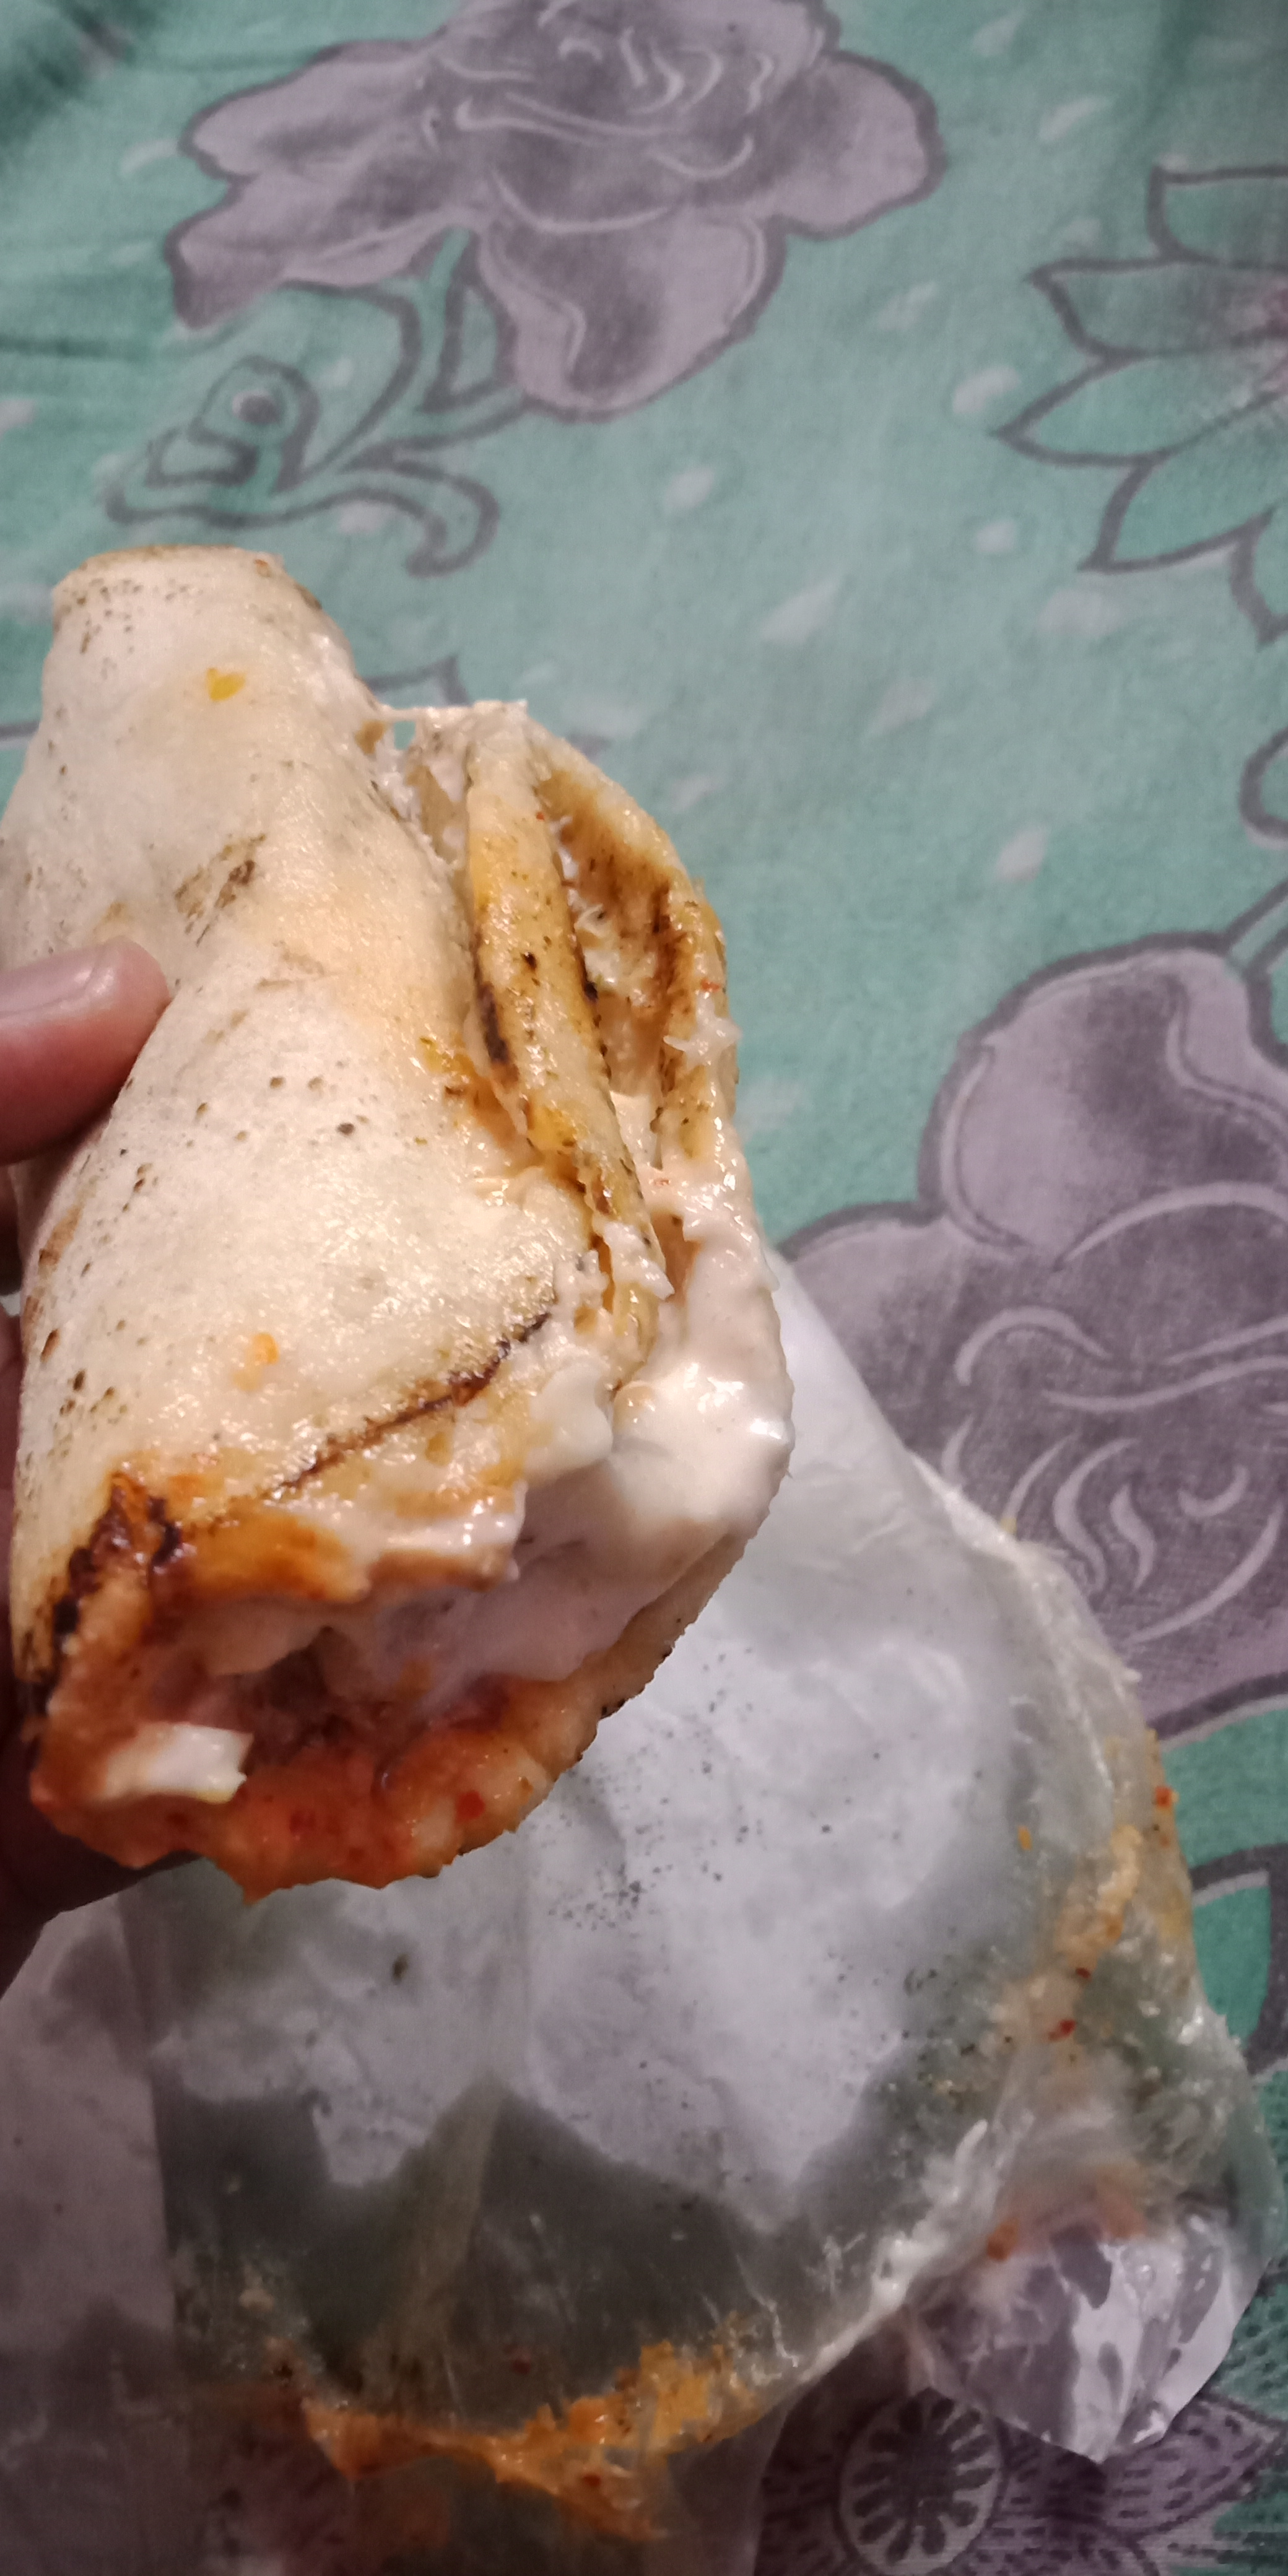food: (0, 531, 808, 1912)
